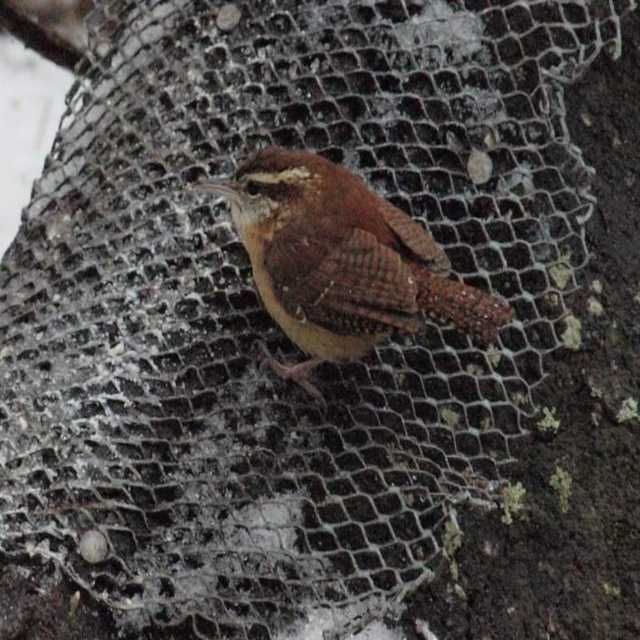Sparrow: (188, 142, 515, 423)
